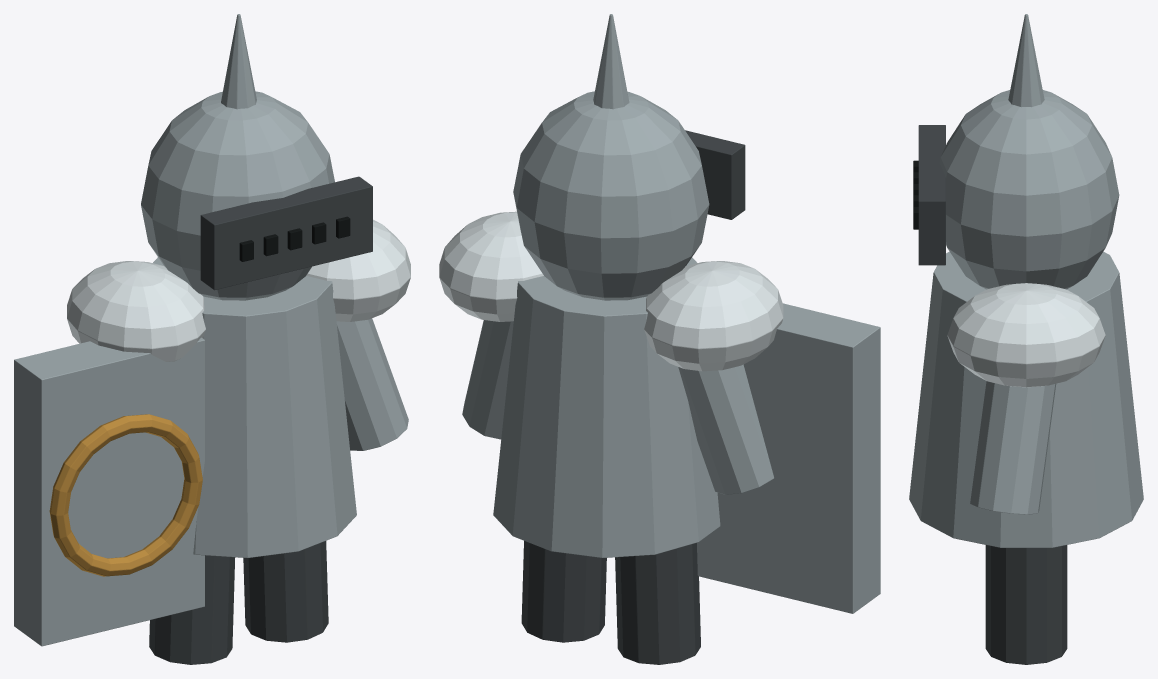
The model's file is CH_Knight.fbx.
The picture shows the model from 3 angles, left to right: view 1: azimuth 30°, elevation 25°; view 2: azimuth 150°, elevation 25°; view 3: azimuth 270°, elevation 25°; orthographic projection.
Visible parts, largest first — view 1: CH_Knight; view 2: CH_Knight; view 3: CH_Knight.
Boxes of the visible parts, <box> form: CH_Knight: <box>14,14,410,664</box>; CH_Knight: <box>439,14,880,664</box>; CH_Knight: <box>909,14,1143,664</box>.
Size of the model in its own units: 164 by 85.96 by 247.
